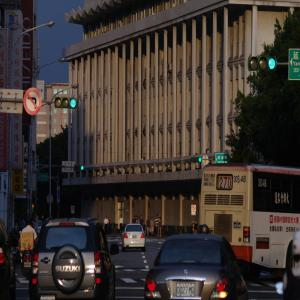Vehicle-registration-plate: (177, 283, 196, 298), (42, 295, 57, 300), (134, 235, 137, 242)
